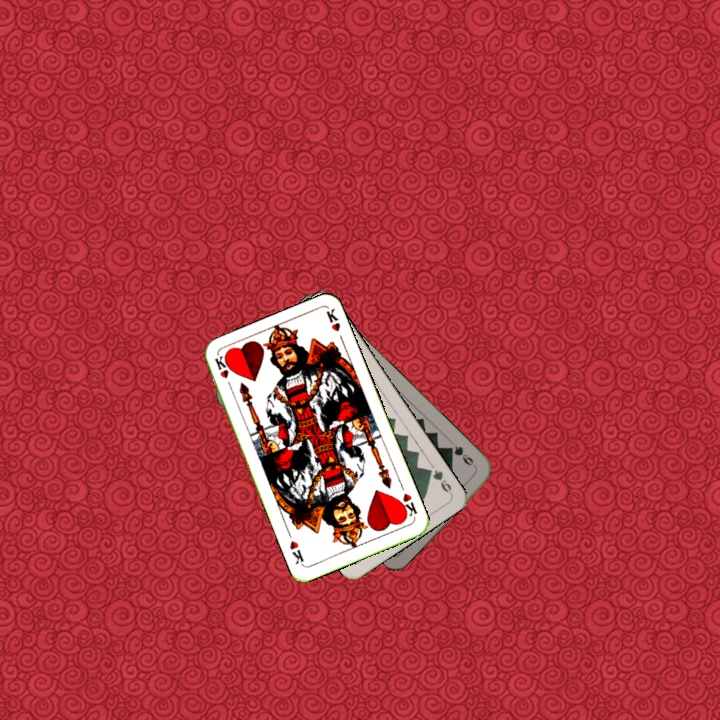G9: (422, 465, 455, 497), (444, 441, 476, 468)
HK: (210, 352, 235, 392), (395, 489, 420, 520)
